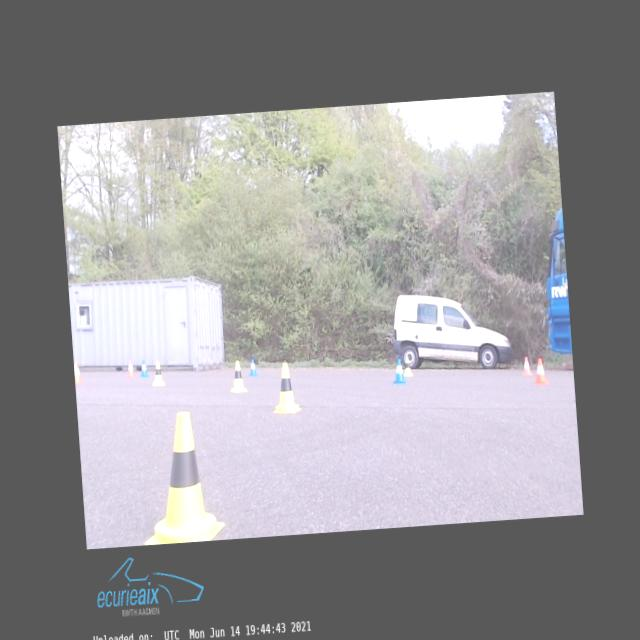blue_cone: (391, 358, 406, 384), (138, 359, 148, 377), (247, 360, 257, 376)
orange_cone: (532, 358, 547, 384), (521, 356, 531, 374), (74, 362, 82, 384), (126, 359, 134, 376)
yellow_cone: (136, 409, 224, 544), (270, 362, 301, 414), (228, 360, 247, 392), (151, 360, 165, 386), (402, 356, 412, 376)
